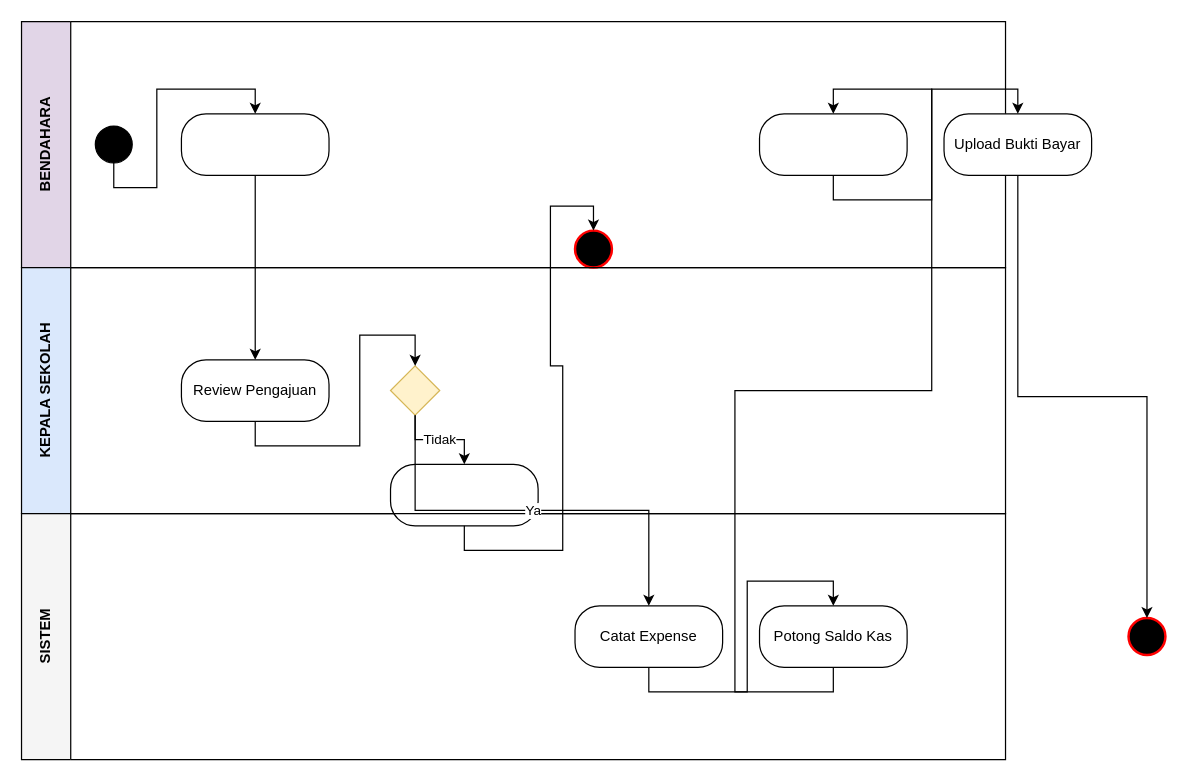
Some shapes in this 1188 by 781 pixel diagram are drawn without their labels. The shapes that lost their labels are listed below. From the top down, each one's centre as x and y in pixels, then its label:
At (x=254, y=144): "Input Pengajuan Dana".
At (x=832, y=144): "Cairkan Dana".
At (x=414, y=390): "Setuju?".
At (x=463, y=494): "Tolak & Beri Catatan".
